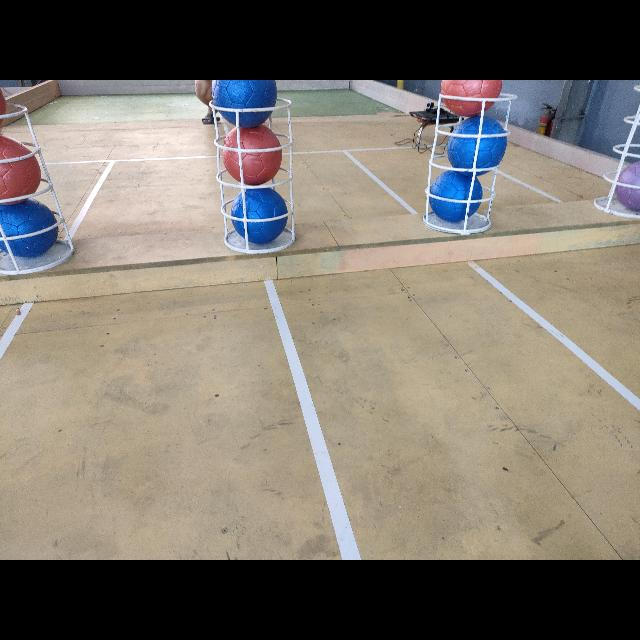B: (447, 116, 507, 176), (0, 201, 60, 257), (231, 188, 287, 246), (212, 80, 278, 128), (431, 170, 484, 222)
R: (222, 127, 282, 185), (0, 136, 40, 202), (441, 80, 502, 116)
